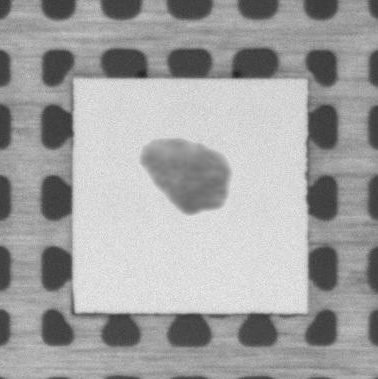DIE_INK: (136, 133, 233, 218)
